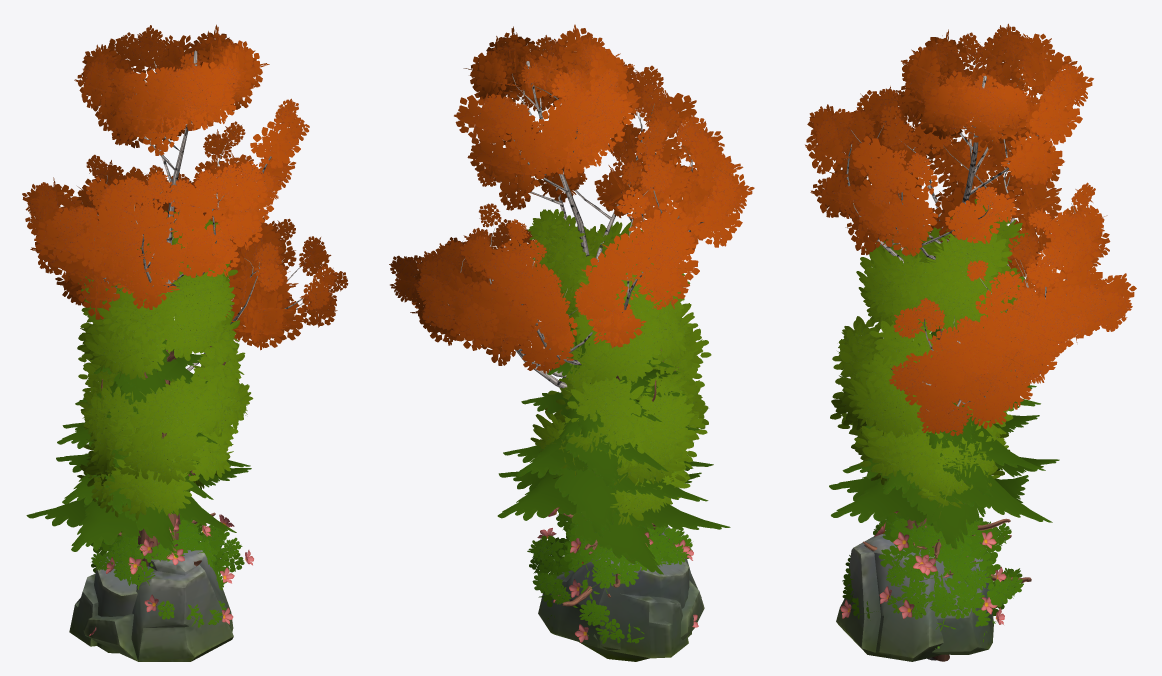
File: meadow.glb
3 views of the same model, side by side, from view 1: azimuth 30°, elevation 25°; view 2: azimuth 150°, elevation 25°; view 3: azimuth 270°, elevation 25° (orthographic). The views are drawn at different scales.
Visible parts, largest first — view 1: Birch_3, CommonTree_3, Rock_Medium_1, Pine_1, CommonTree_5, CommonTree_4, Bush_Large_Flowers, Bush_Large, Rock_Medium_2; view 2: Birch_3, Pine_1, CommonTree_3, Rock_Medium_2, CommonTree_5, Bush_Large_Flowers, Bush_Large, CommonTree_4, Rock_Medium_1; view 3: Birch_3, Pine_1, CommonTree_4, CommonTree_3, Rock_Medium_1, Bush_Large_Flowers, Bush_Large, CommonTree_5, Rock_Medium_2.
Part boxes in pixels (x1,y1,x2,y2): Birch_3: (22, 24, 348, 371); CommonTree_3: (77, 210, 253, 546); Rock_Medium_1: (83, 548, 233, 661); Pine_1: (26, 339, 251, 566); CommonTree_5: (77, 348, 238, 520); CommonTree_4: (81, 211, 239, 566); Bush_Large_Flowers: (89, 514, 253, 636); Bush_Large: (91, 514, 244, 627); Rock_Medium_2: (69, 556, 137, 653); Birch_3: (389, 24, 754, 388); Pine_1: (497, 340, 730, 606); CommonTree_3: (530, 215, 711, 485); Rock_Medium_2: (538, 558, 691, 658); CommonTree_5: (545, 334, 707, 525); Bush_Large_Flowers: (527, 507, 698, 642); Bush_Large: (529, 513, 692, 643); CommonTree_4: (527, 209, 690, 529); Rock_Medium_1: (578, 526, 704, 661); Birch_3: (805, 23, 1136, 660); Pine_1: (829, 322, 1059, 583); CommonTree_4: (856, 199, 1029, 661); CommonTree_3: (830, 222, 1019, 661); Rock_Medium_1: (836, 534, 993, 661); Bush_Large_Flowers: (840, 511, 1023, 635); Bush_Large: (842, 515, 1022, 642); CommonTree_5: (837, 350, 1013, 658); Rock_Medium_2: (932, 557, 993, 654).
Size of the model in its own units: 7.97 by 13.36 by 6.72.
13 materials, 13 textured.
